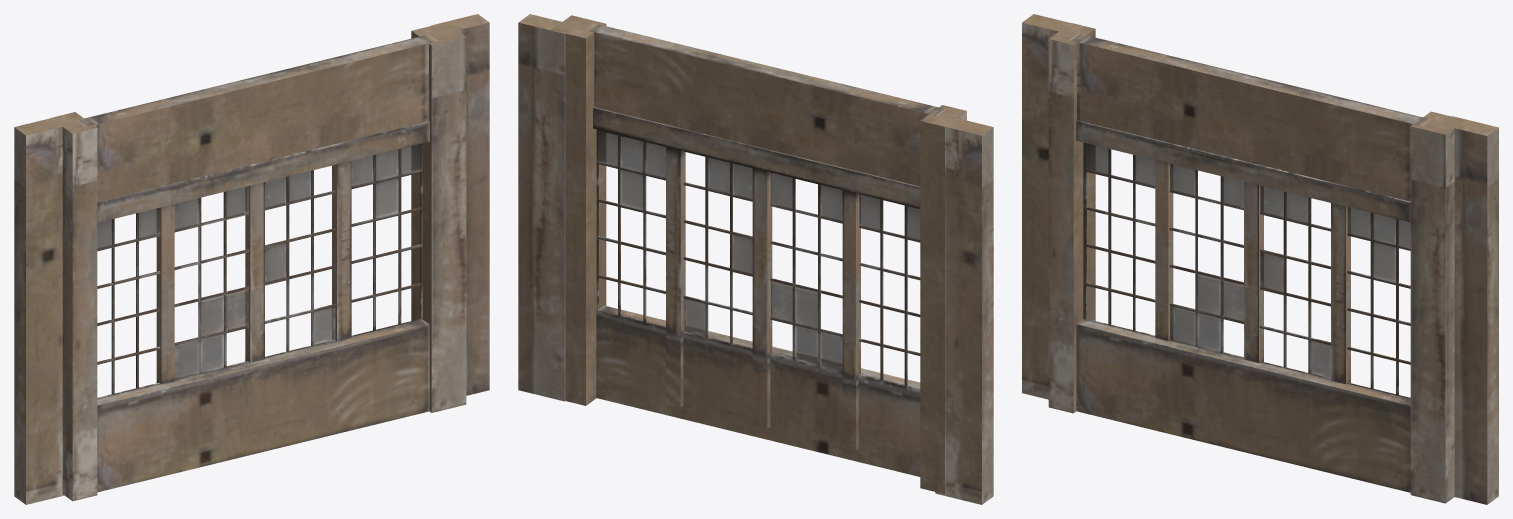
The model's file is cua-kinh-nha-may.glb.
3 renders of one model, left to right at view 1: azimuth 30°, elevation 25°; view 2: azimuth 150°, elevation 25°; view 3: azimuth 330°, elevation 25°, orthographic.
Parts seen in each view (by area): view 1: cua-kinh-nha-may; view 2: cua-kinh-nha-may; view 3: cua-kinh-nha-may.
Part boxes in pixels (<box>): cua-kinh-nha-may: <box>14,14,489,504</box>; cua-kinh-nha-may: <box>518,14,993,504</box>; cua-kinh-nha-may: <box>1022,14,1498,504</box>.
Size of the model in its own units: 6.57 by 5 by 0.5386.
Materials: 1 (1 with a texture image).
